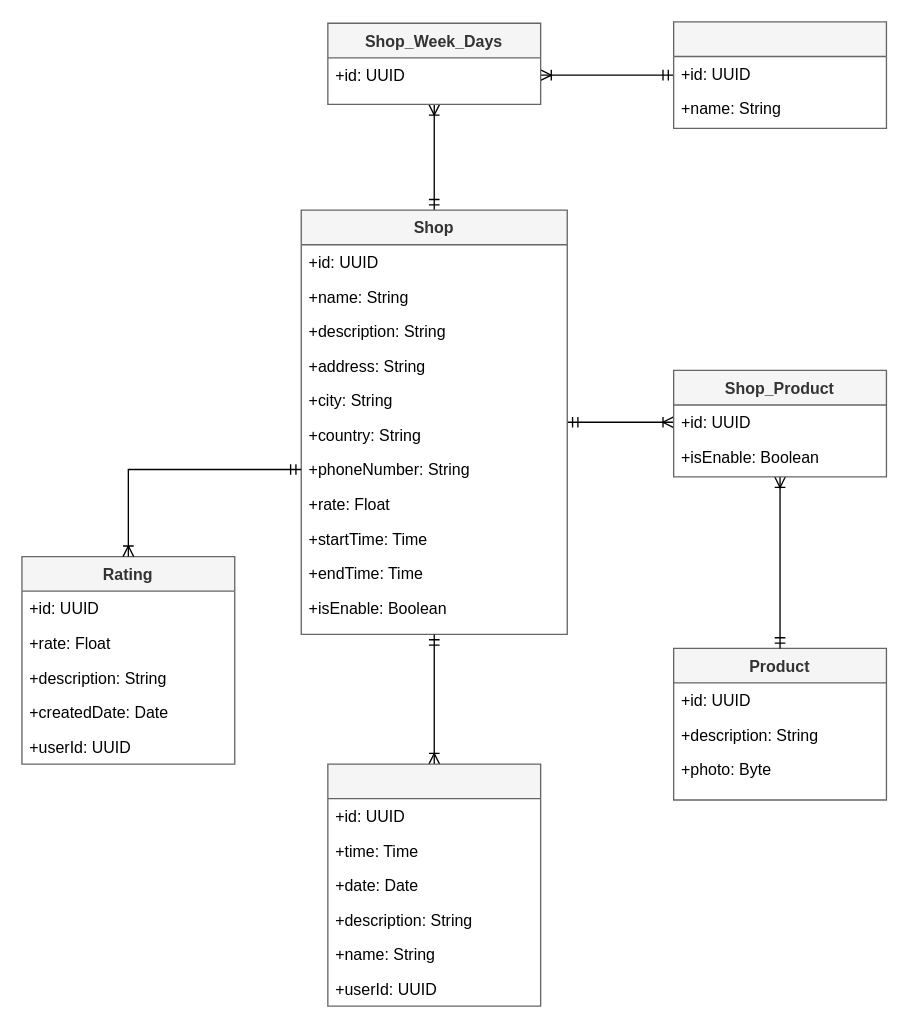
The diagram is 908 pixels wide and 1028 high, and some of its shapes have lost their labels. The box of each missing label's shape, as (x1, y1, x2, y2) in pixels:
Appointement: (327, 763, 541, 1006)
Week_Days: (672, 21, 886, 128)
